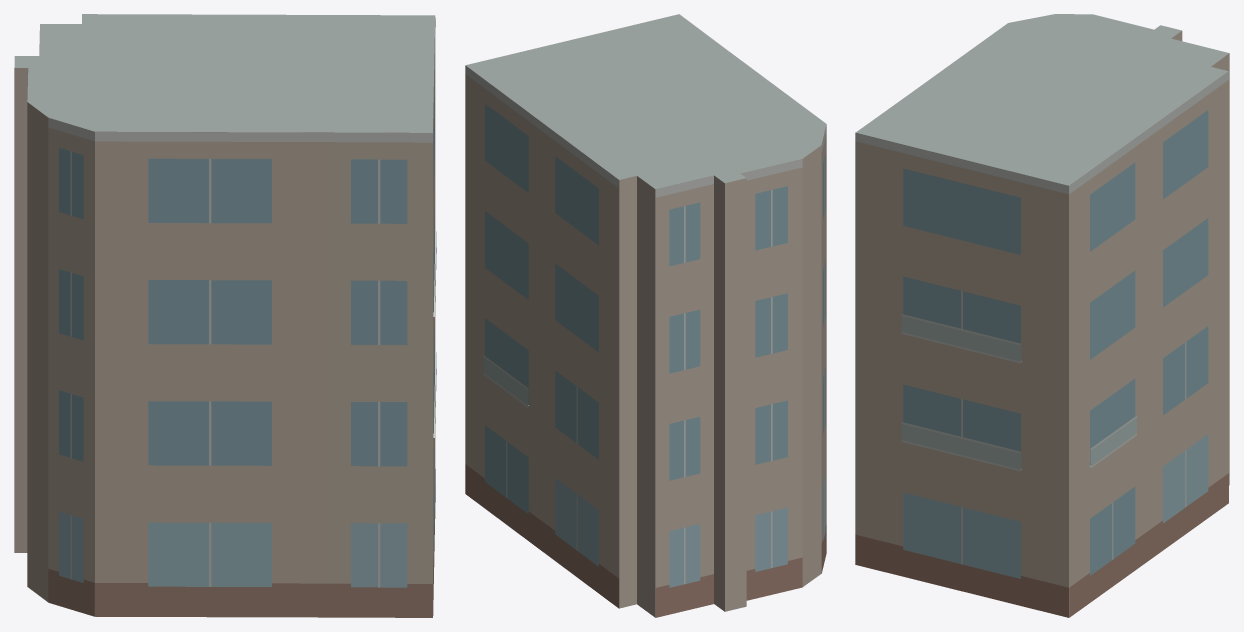
The model's file is residential-b7fa625b-839c-4dae-9f68-c0ab7e689cef.glb.
3 renders of one model, left to right at view 1: azimuth 30°, elevation 25°; view 2: azimuth 150°, elevation 25°; view 3: azimuth 270°, elevation 25°, orthographic. The views are drawn at different scales.
Parts seen in each view (by area): view 1: residential-b7fa625b-839c-4dae-9f68-c0ab7e689cef.tmp; view 2: residential-b7fa625b-839c-4dae-9f68-c0ab7e689cef.tmp; view 3: residential-b7fa625b-839c-4dae-9f68-c0ab7e689cef.tmp.
Boxes of the visible parts, left/top/right/bottom form: residential-b7fa625b-839c-4dae-9f68-c0ab7e689cef.tmp: left=14, top=14, right=436, bottom=617; residential-b7fa625b-839c-4dae-9f68-c0ab7e689cef.tmp: left=465, top=14, right=826, bottom=617; residential-b7fa625b-839c-4dae-9f68-c0ab7e689cef.tmp: left=855, top=14, right=1229, bottom=617.
Size of the model in its own units: 10.41 by 12.2 by 9.58.
